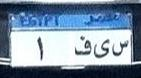1: (35, 34, 47, 61)
faa: (74, 34, 92, 58)
seen: (111, 37, 129, 60)
yaa: (92, 38, 111, 60)
